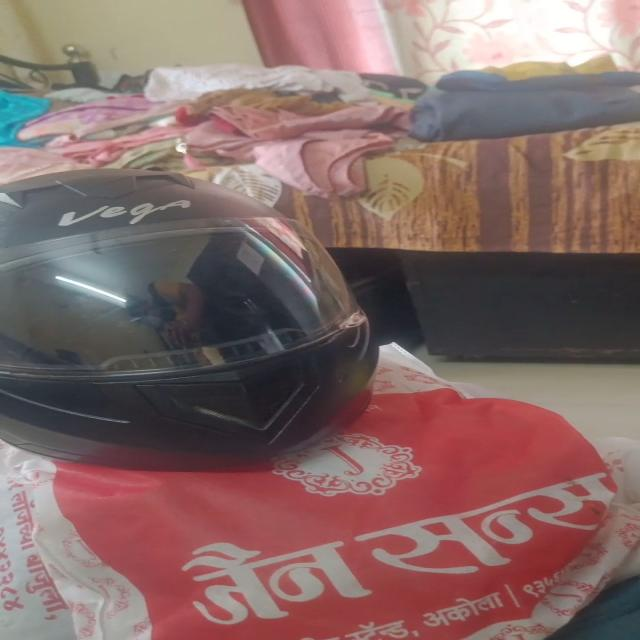Helmet: (0, 169, 378, 470)
